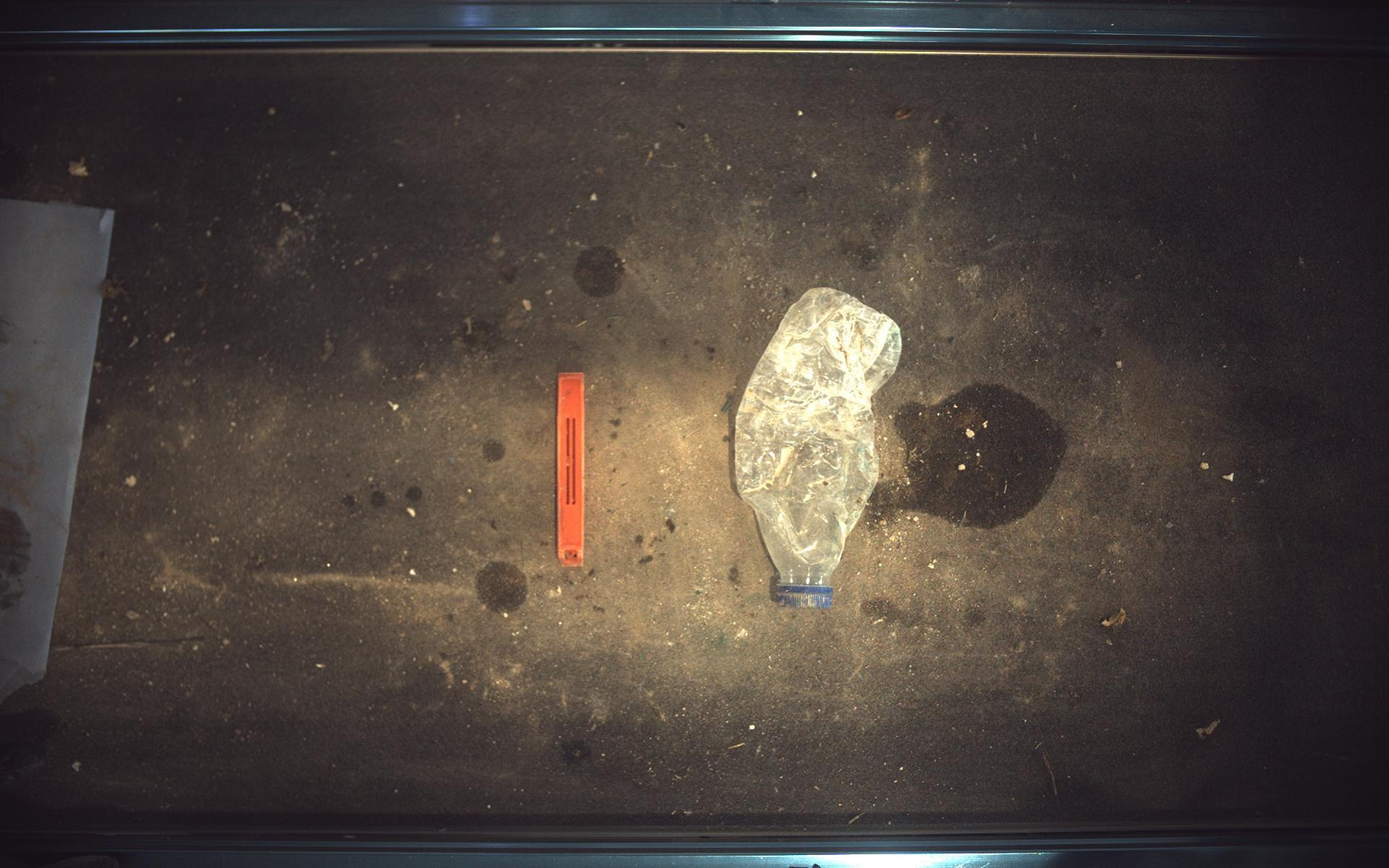general_w: (736, 287, 904, 609), (557, 373, 585, 567)
